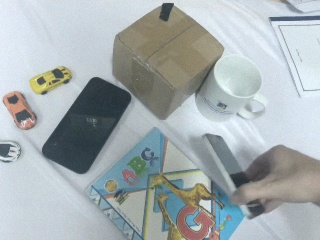book: (78, 122, 251, 239)
box: (111, 1, 226, 121)
cup: (197, 53, 269, 123)
phone: (40, 75, 134, 175)
toy_car: (2, 90, 38, 131), (29, 66, 72, 95), (1, 141, 21, 163)
